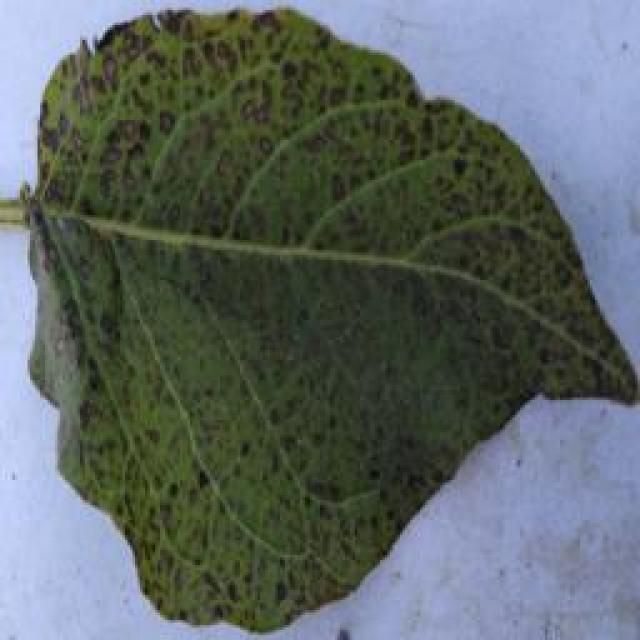Potato_Early_Blight: (28, 18, 628, 627)
